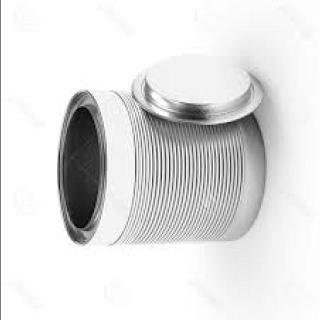Anorganik: (49, 56, 268, 254)
